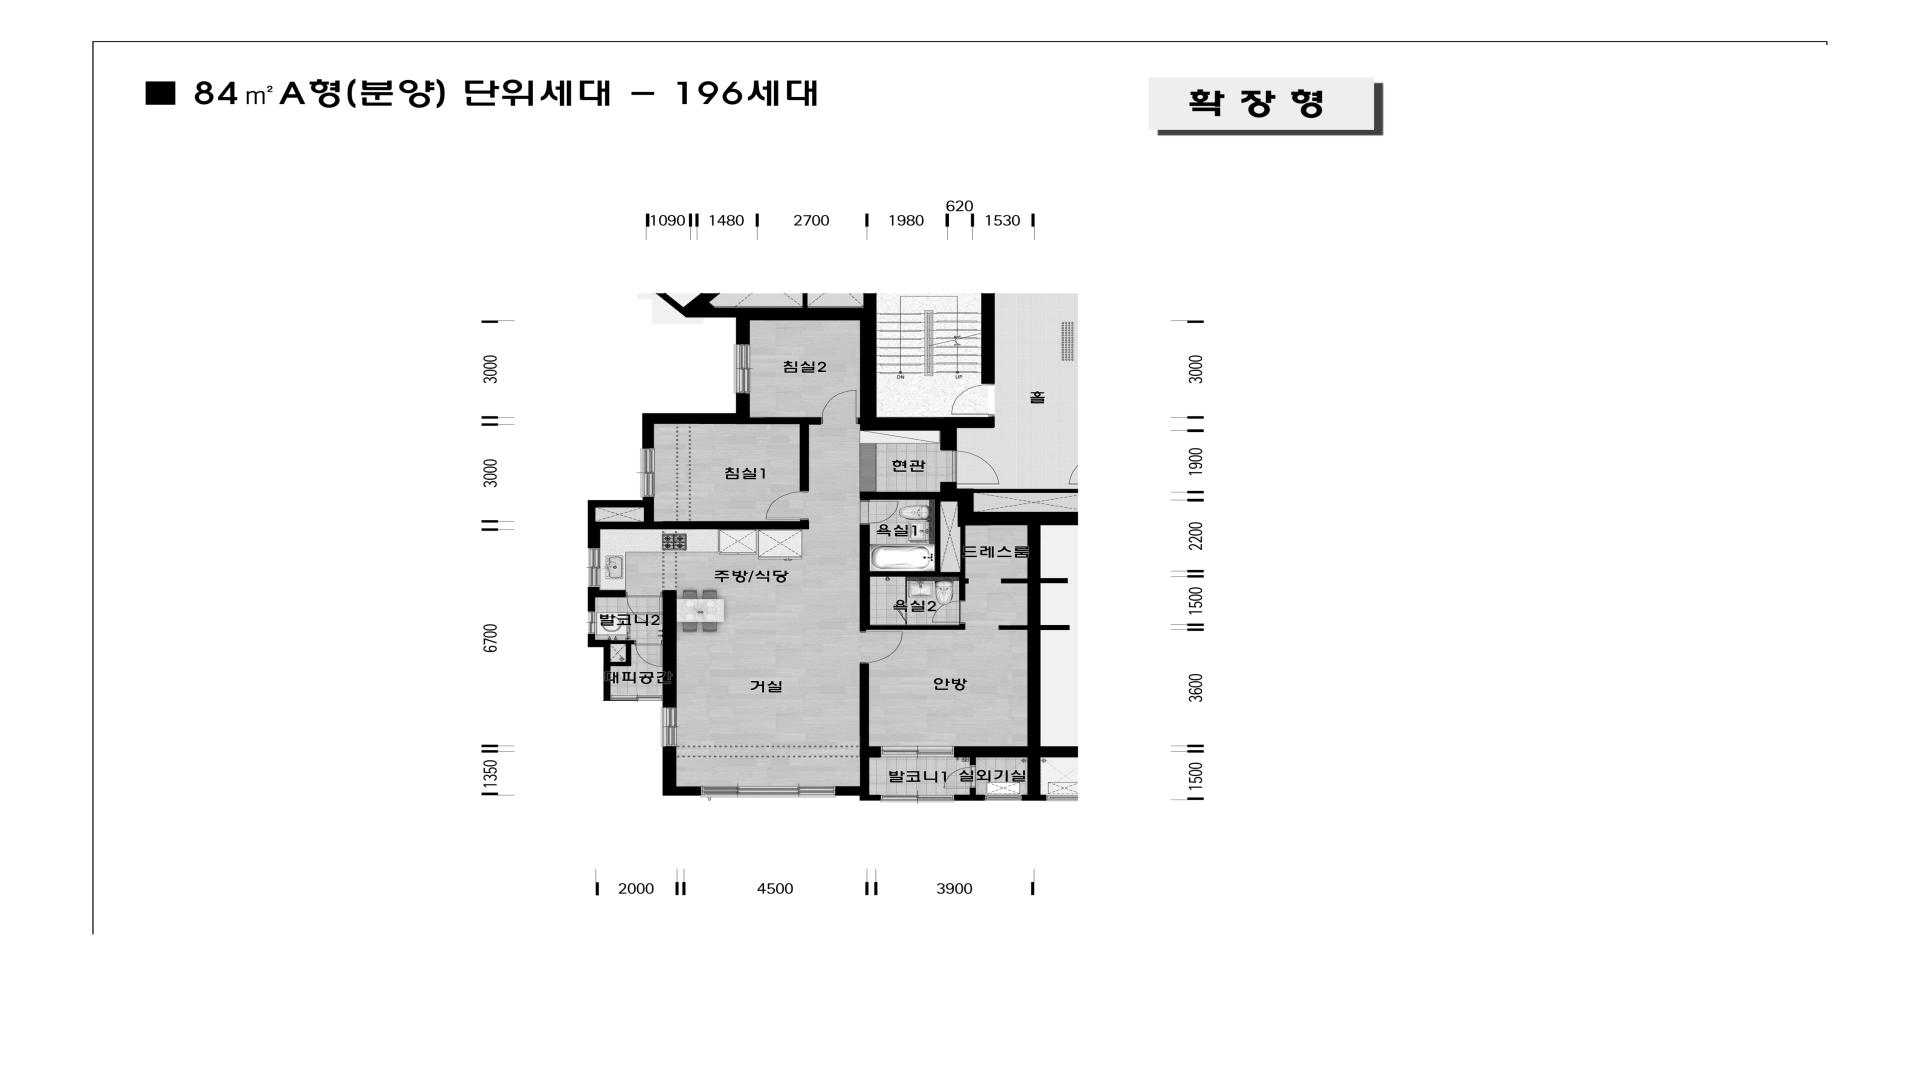door: (951, 384, 995, 416), (860, 632, 904, 663), (821, 390, 858, 425), (765, 491, 809, 520), (859, 500, 898, 525), (931, 600, 966, 624), (943, 765, 976, 788), (635, 640, 663, 667), (893, 603, 907, 622)
wall: (655, 293, 957, 431), (642, 394, 750, 448), (1027, 525, 1040, 795), (957, 501, 1078, 527), (940, 482, 1078, 501), (662, 747, 701, 796), (662, 590, 677, 695), (954, 746, 1027, 765), (981, 293, 995, 384), (595, 508, 654, 529), (690, 520, 809, 530), (859, 525, 870, 632), (588, 587, 626, 612), (596, 640, 611, 701), (860, 663, 869, 746), (588, 497, 654, 508), (835, 786, 881, 801), (799, 424, 809, 491), (859, 492, 940, 500), (870, 571, 965, 577), (870, 624, 965, 630), (750, 417, 821, 425), (934, 500, 941, 572), (588, 508, 600, 548), (957, 416, 995, 428), (611, 644, 631, 666), (1040, 746, 1078, 757), (954, 788, 985, 801), (940, 431, 957, 451), (654, 521, 690, 530), (860, 746, 881, 758), (860, 758, 869, 786), (959, 576, 969, 600), (960, 527, 965, 572), (662, 695, 677, 708), (1021, 795, 1046, 801), (998, 625, 1027, 630), (1040, 625, 1069, 630), (1040, 579, 1069, 584), (1001, 579, 1027, 584), (588, 634, 596, 648), (611, 640, 635, 644), (802, 293, 808, 307), (905, 577, 907, 603), (857, 418, 860, 425), (905, 622, 907, 625)
window: (701, 786, 835, 798), (881, 746, 954, 758), (733, 345, 750, 394), (640, 448, 655, 497), (660, 708, 677, 747), (881, 795, 954, 803), (588, 548, 600, 587), (611, 695, 662, 701), (985, 795, 1022, 801), (1046, 795, 1078, 801), (588, 612, 596, 634)
